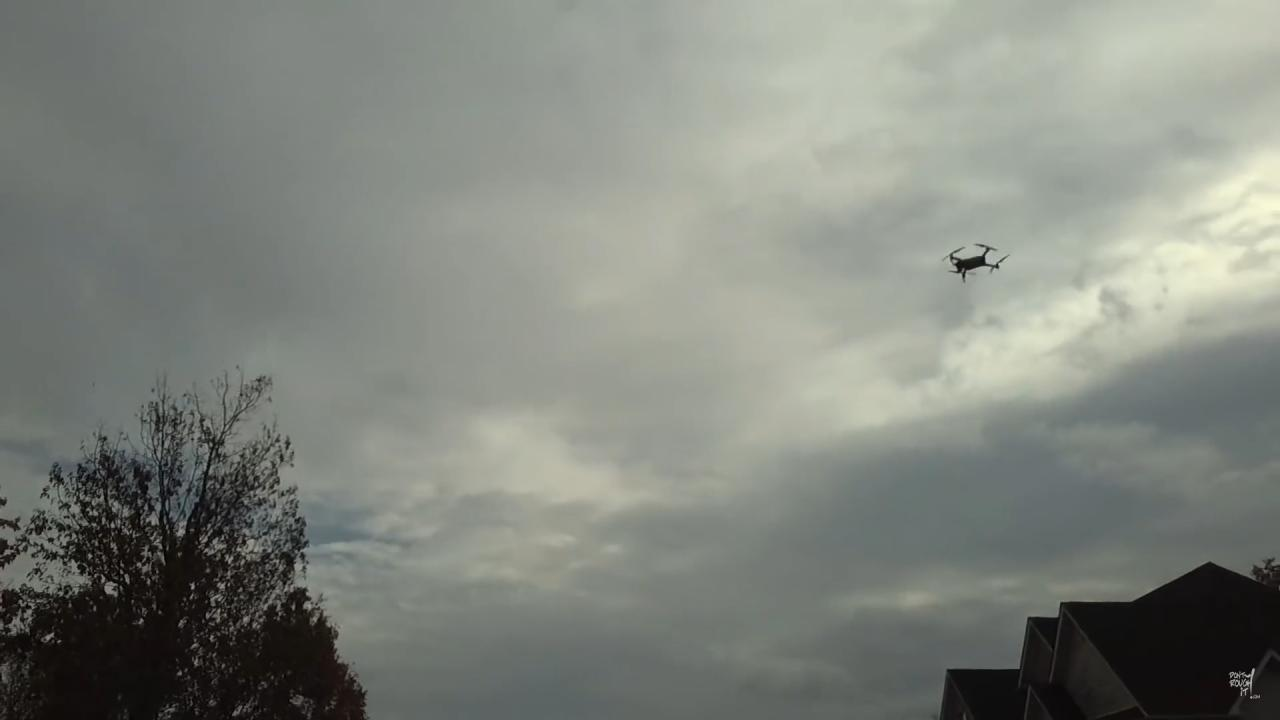Drone: (935, 230, 1019, 292)
